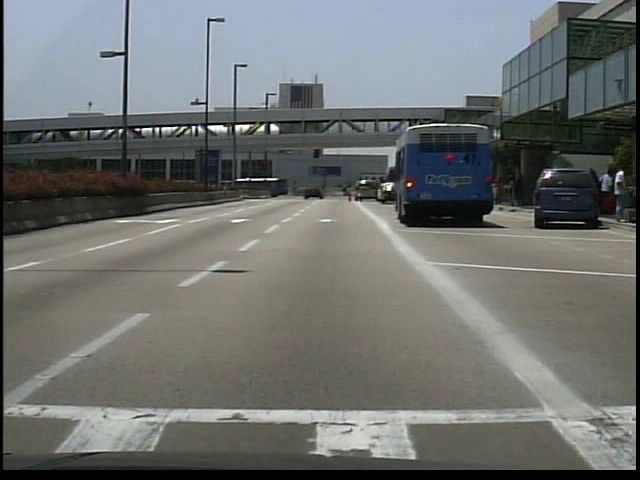person: (613, 163, 632, 222), (513, 172, 525, 208), (599, 167, 615, 191), (342, 183, 354, 198), (323, 184, 332, 200)
